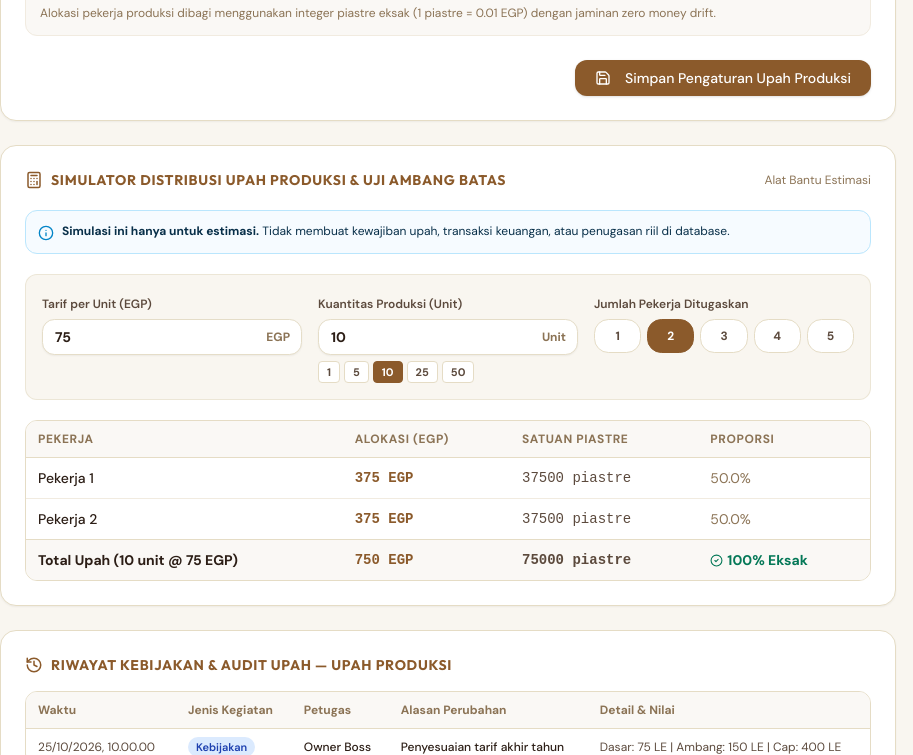
it: AdminWageSettings - Centralized Multi-Category Wage Settings UI › 7. Production Wage Simulator calculates exact piastres and quick quantity buttons update results
The width and height of the screenshot is (913, 755).
(page scrolled)
Step 1. Click the button "25" → (422, 372), box [407,360,438,383]
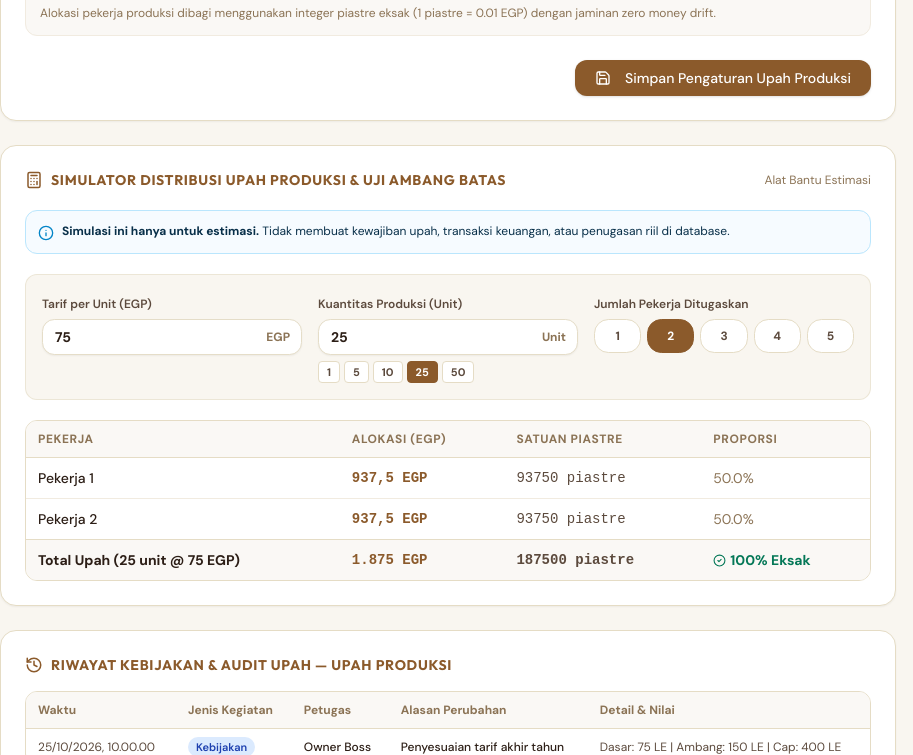
Check: the text "100% Eksak" is shown, box [701,540,870,580]
Check: the text "1.875 EGP" is shown, box [340,540,504,580]
Check: the text "187500 piastre" is shown, box [504,540,701,580]
